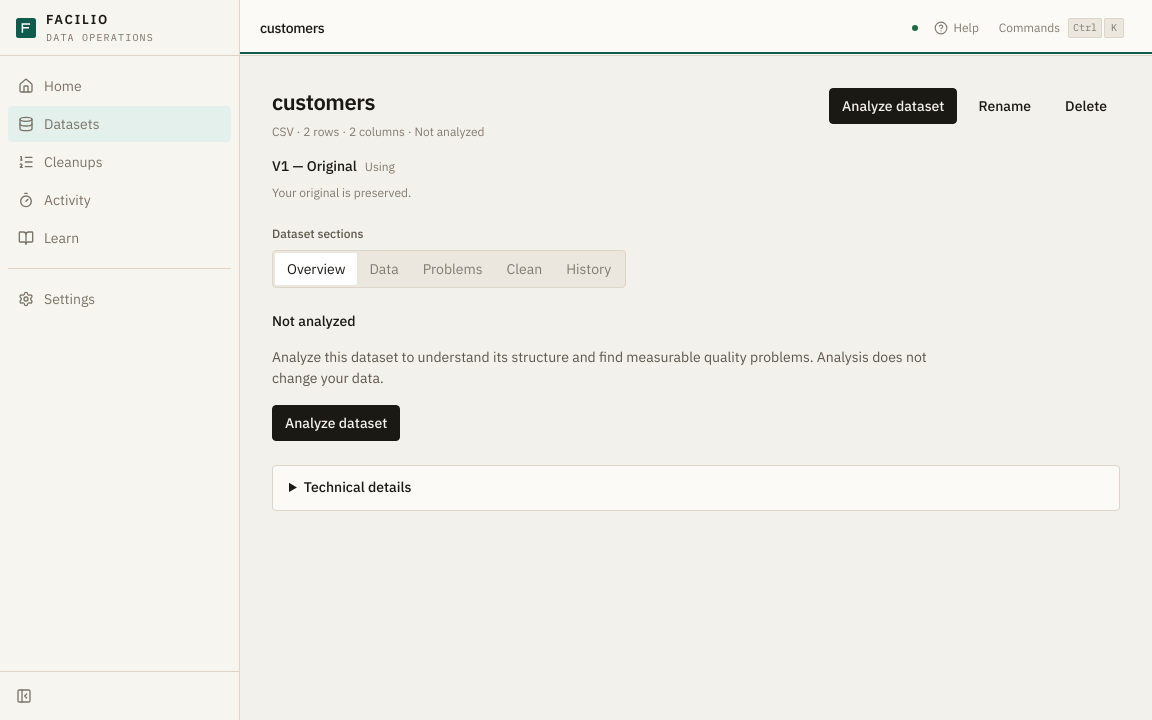
Test: problems not-analyzed state asks for analysis
Click the radio button labelled "Problems" at (453, 269), box [411,253,495,285]
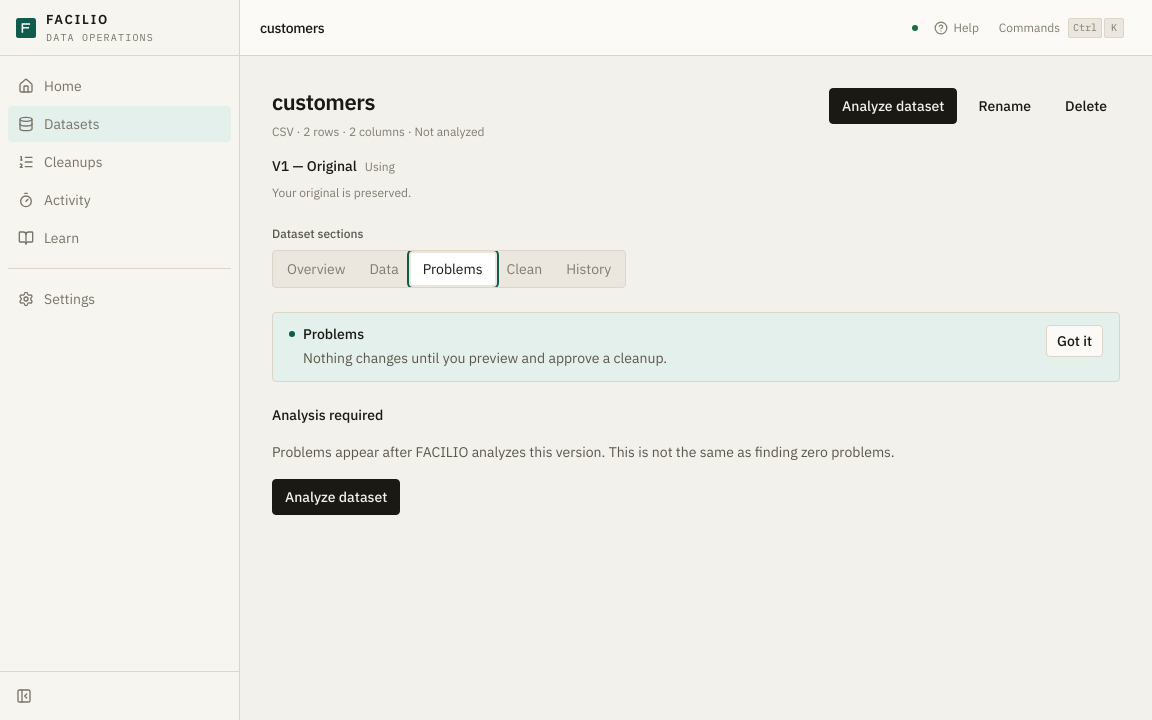
Check: the 1st button "Analyze dataset" is shown, box [829,88,958,124]
Check: the heading "Analysis required" is shown, box [272,406,383,424]
